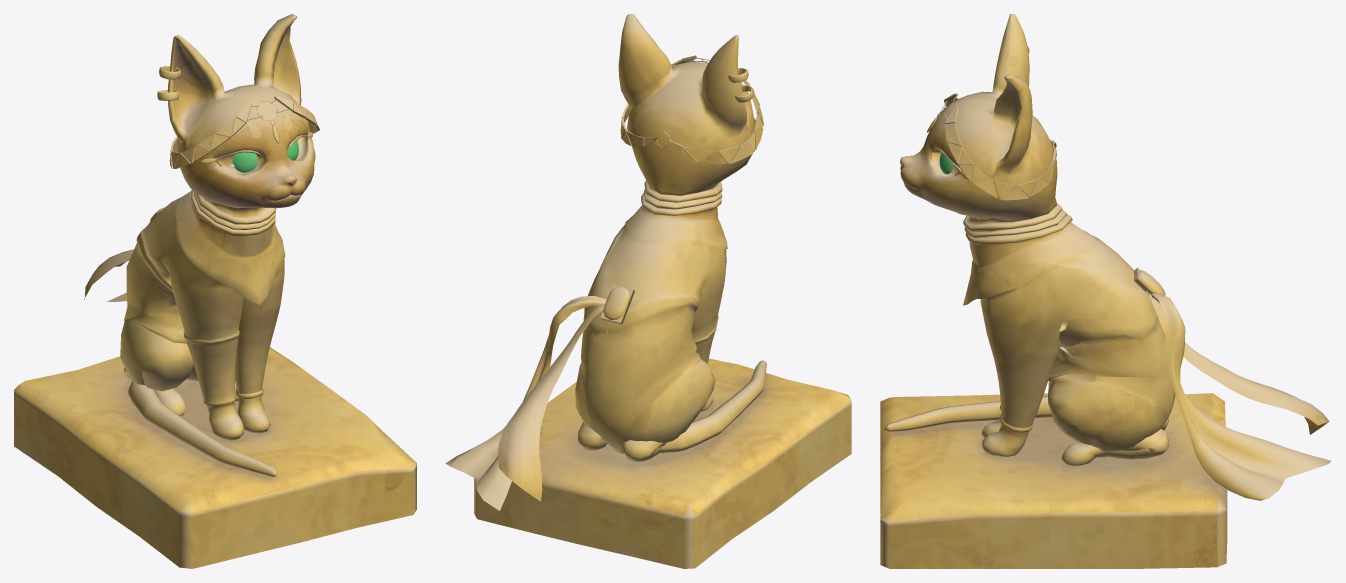
File: Prop_Treasure_Bastet.fbx
3 renders of one model, left to right at view 1: azimuth 30°, elevation 25°; view 2: azimuth 150°, elevation 25°; view 3: azimuth 270°, elevation 25°, orthographic. The views are drawn at different scales.
Visible parts, largest first — view 1: Treasure_Bastet; view 2: Treasure_Bastet; view 3: Treasure_Bastet.
Boxes of the visible parts, x1,y1,x2,y2 form: Treasure_Bastet: [14, 14, 416, 568]; Treasure_Bastet: [445, 14, 851, 568]; Treasure_Bastet: [880, 14, 1331, 568].
Size of the model in its own units: 28.61 by 54.16 by 47.27.
Materials: 2 (2 with a texture image).
